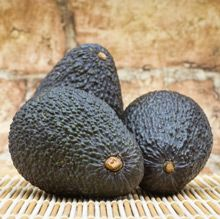fit_avocado: (2, 83, 146, 199), (116, 84, 216, 200)
